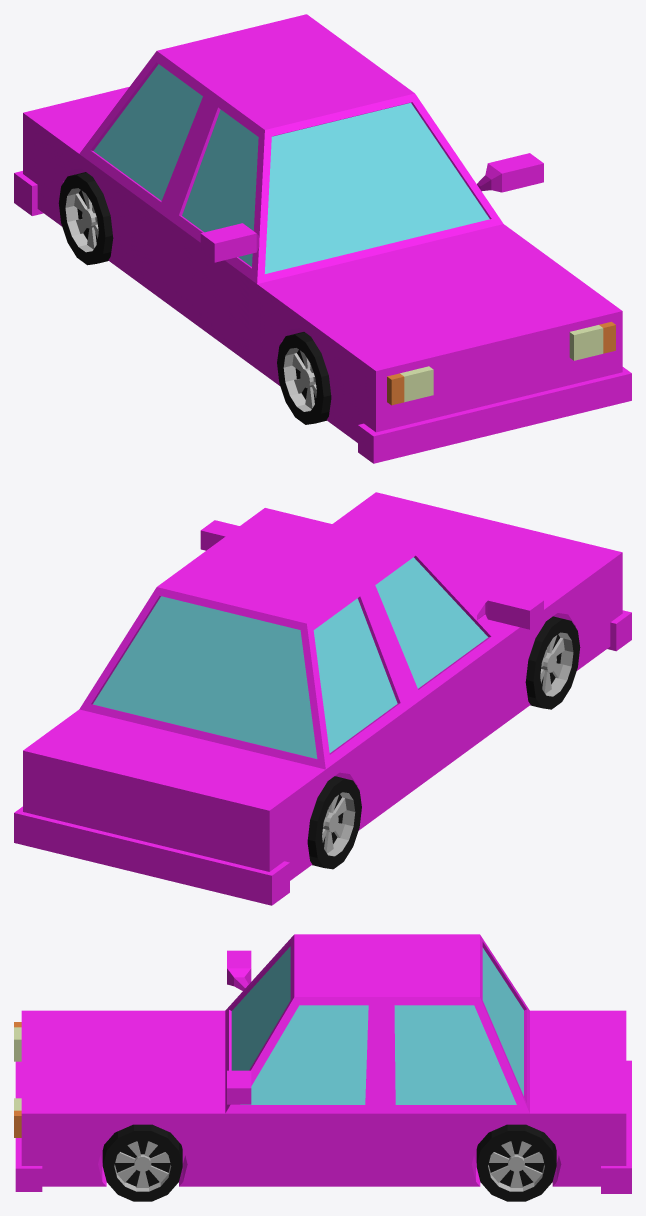
Rendered from pink car.fbx.
3 views of the same model, one above another, from view 1: azimuth 30°, elevation 25°; view 2: azimuth 150°, elevation 25°; view 3: azimuth 270°, elevation 25° (orthographic). The views are drawn at different scales.
Visible parts, largest first — view 1: Cube, Cylinder.001, Cylinder.003, Cube.002, Cube.001; view 2: Cube, Cylinder.001, Cylinder.003, Cube.002; view 3: Cube, Cylinder.003, Cylinder.001, Cube.002, Cube.001.
Part boxes in pixels (x1,y1,x2,y2): Cube: (14,14,631,463); Cylinder.001: (277,332,331,424); Cylinder.003: (58,172,113,265); Cube.002: (200,153,543,262); Cube.001: (387,321,615,405); Cube: (14,492,631,905); Cylinder.001: (525,616,580,709); Cylinder.003: (307,776,361,869); Cube.002: (200,520,543,629); Cube: (15,934,631,1193); Cylinder.003: (476,1124,556,1201); Cylinder.001: (102,1124,182,1201); Cube.002: (227,950,251,1104); Cube.001: (14,1022,21,1137).
Bounding box in the file's own units: 341 × 211 × 647.
